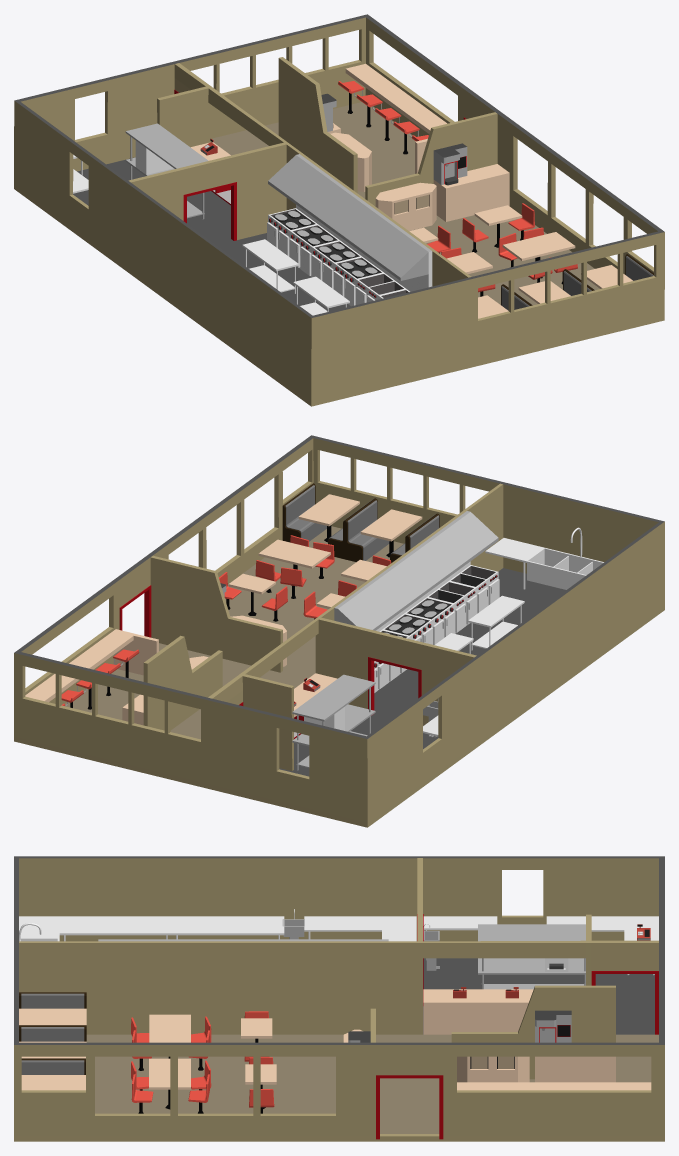
The picture shows the model from 3 angles, top to bottom: view 1: azimuth 30°, elevation 25°; view 2: azimuth 150°, elevation 25°; view 3: azimuth 270°, elevation 25°; orthographic projection. The views are drawn at different scales.
Visible parts, largest first — view 1: Scene, Stove, Trash Can Double.002, Trash Can Double.001, Fryer, Counter.001, Table Booth, Table Wide, Prep Table Thin.001, Wall Table, Prep Table Stack, Table Thing (+4 smaller); view 2: Scene, Trash Can Double.001, Stove, Table Booth, Fryer, Trash Can Double.002, Table Wide, Kitchen Sink Big, Wall Table, Prep Table Stack, Table Thing, Prep Table Thin.001 (+3 smaller); view 3: Scene, Trash Can Double.002, Table Booth, Prep Table, Table Wide, Counter, Prep Table Stack, Counter.002, Prep Table L, Table Thing, Wall Table, Prep Table L.001 (+6 smaller).
Part boxes in pixels (x1,y1,x2,y2): Scene: (14, 14, 664, 406); Stove: (267, 154, 387, 306); Trash Can Double.002: (278, 57, 371, 193); Trash Can Double.001: (365, 112, 497, 230); Fryer: (355, 219, 432, 304); Counter.001: (433, 164, 509, 221); Table Booth: (478, 254, 653, 318); Table Wide: (441, 227, 577, 296); Prep Table Thin.001: (242, 239, 349, 315); Wall Table: (345, 63, 446, 173); Prep Table Stack: (125, 123, 208, 219); Table Thing: (409, 203, 534, 253); Scene: (14, 435, 664, 827); Trash Can Double.001: (150, 555, 286, 672); Stove: (334, 543, 455, 692); Table Booth: (282, 483, 439, 562); Fryer: (423, 511, 499, 633); Trash Can Double.002: (143, 635, 222, 730); Table Wide: (255, 535, 391, 598); Kitchen Sink Big: (485, 538, 603, 589); Wall Table: (25, 629, 158, 702); Prep Table Stack: (292, 674, 375, 770); Table Thing: (219, 572, 345, 621); Prep Table Thin.001: (434, 595, 524, 653); Scene: (14, 856, 664, 1141); Trash Can Double.002: (451, 985, 615, 1082); Table Booth: (19, 992, 86, 1090); Prep Table: (59, 916, 284, 941); Table Wide: (131, 1014, 211, 1113); Counter: (423, 989, 533, 1034); Prep Table Stack: (478, 924, 585, 989); Counter.002: (535, 1056, 615, 1082); Prep Table L: (304, 916, 416, 941); Table Thing: (241, 1011, 276, 1113); Wall Table: (457, 1082, 651, 1090); Prep Table L.001: (546, 916, 658, 975).
Size of the model in its own units: 13.27 by 3.17 by 19.32.
